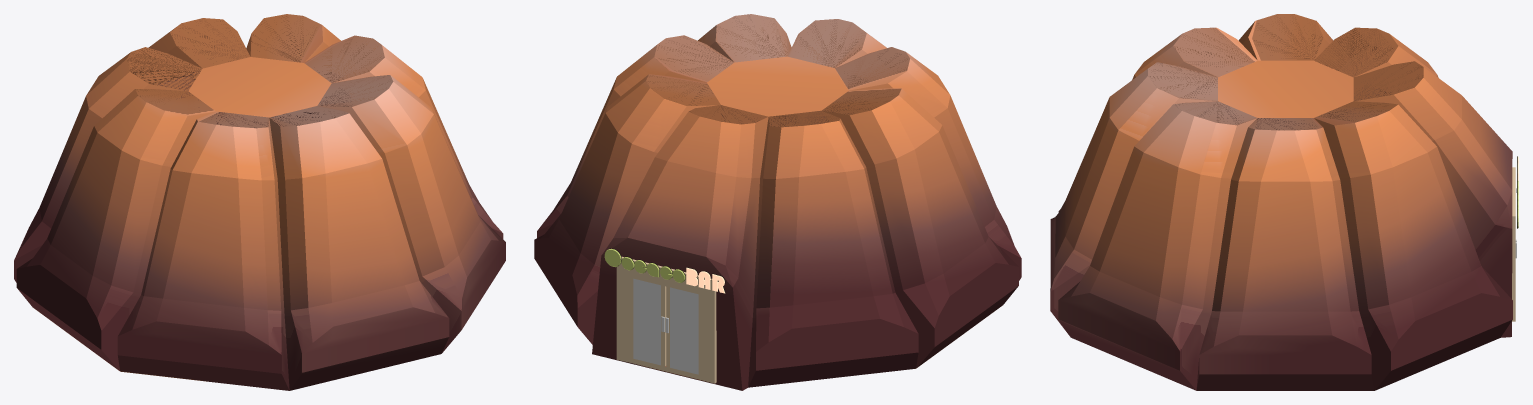
Rendered from bar_external.fbx.
3 renders of one model, left to right at view 1: azimuth 30°, elevation 25°; view 2: azimuth 150°, elevation 25°; view 3: azimuth 270°, elevation 25°, orthographic. The views are drawn at different scales.
Parts seen in each view (by area): view 1: Cylinder.001; view 2: Cylinder.001, Text; view 3: Cylinder.001.
Part boxes in pixels (left/top/right/bottom): Cylinder.001: left=14, top=14, right=505, bottom=390; Cylinder.001: left=534, top=14, right=1021, bottom=390; Text: left=604, top=248, right=725, bottom=293; Cylinder.001: left=1050, top=14, right=1516, bottom=390.
Bounding box in the file's own units: 405 × 216 × 402.
Materials: 7 (1 with a texture image).
